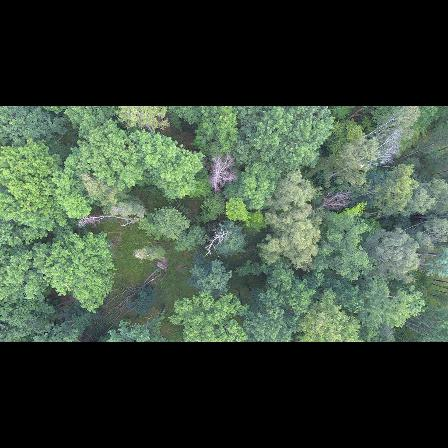Dead: (356, 125, 405, 161), (76, 209, 144, 231), (207, 153, 240, 194), (312, 184, 353, 214), (205, 224, 229, 259)
